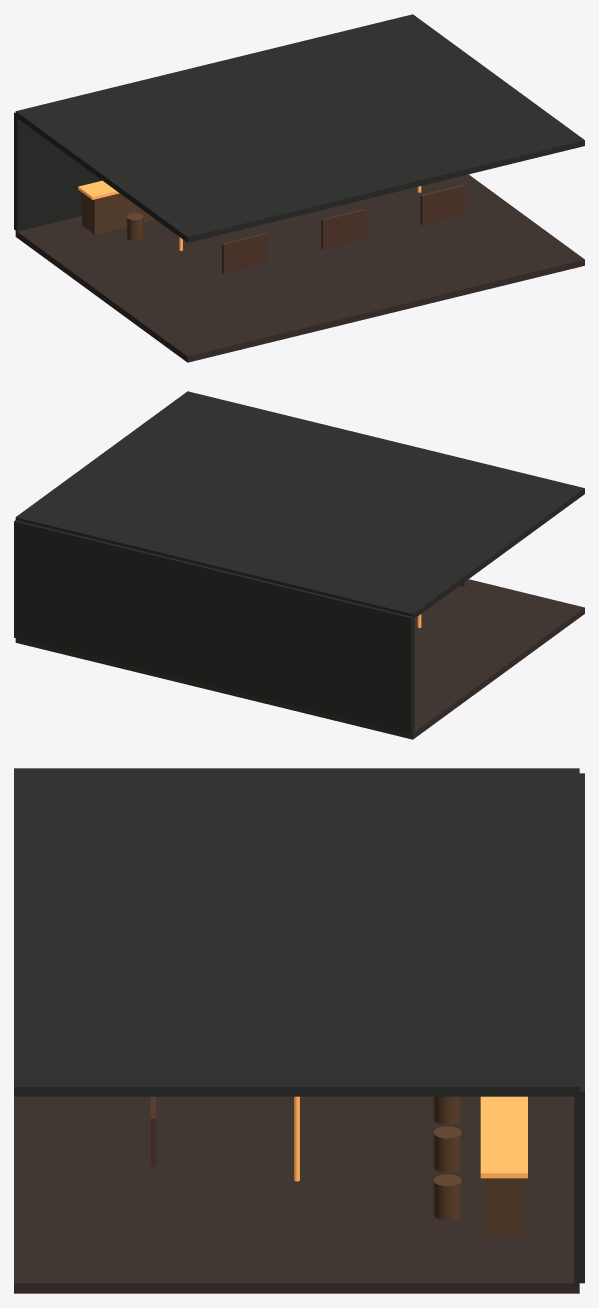
File: midnight-mile-bar-28.glb
3 renders of one model, top to bottom at view 1: azimuth 30°, elevation 25°; view 2: azimuth 150°, elevation 25°; view 3: azimuth 270°, elevation 25°, orthographic. The views are drawn at different scales.
Parts seen in each view (by area): view 1: midnight-mile-bar-28; view 2: midnight-mile-bar-28; view 3: midnight-mile-bar-28.
Boxes of the visible parts, x1,y1,x2,y2 form: midnight-mile-bar-28: (14, 14, 584, 362); midnight-mile-bar-28: (14, 391, 584, 739); midnight-mile-bar-28: (14, 768, 584, 1293).
Bounding box in the file's own units: 20 × 6.04 × 15.14.
